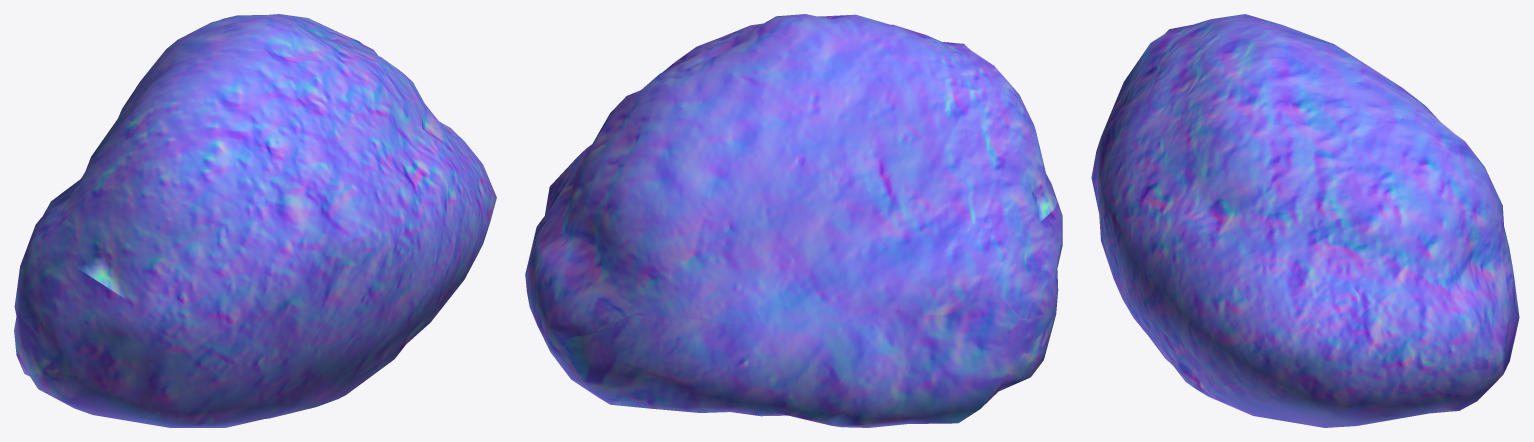
File: Rock006.fbx
3 renders of one model, left to right at view 1: azimuth 30°, elevation 25°; view 2: azimuth 150°, elevation 25°; view 3: azimuth 270°, elevation 25°, orthographic. The views are drawn at different scales.
Parts seen in each view (by area): view 1: Rock06_LOD0; view 2: Rock06_LOD0; view 3: Rock06_LOD0.
Boxes of the visible parts, x1,y1,x2,y2 form: Rock06_LOD0: (14, 14, 496, 427); Rock06_LOD0: (525, 14, 1062, 427); Rock06_LOD0: (1091, 14, 1519, 427).
Size of the model in its own units: 102 by 75.63 by 85.73.
